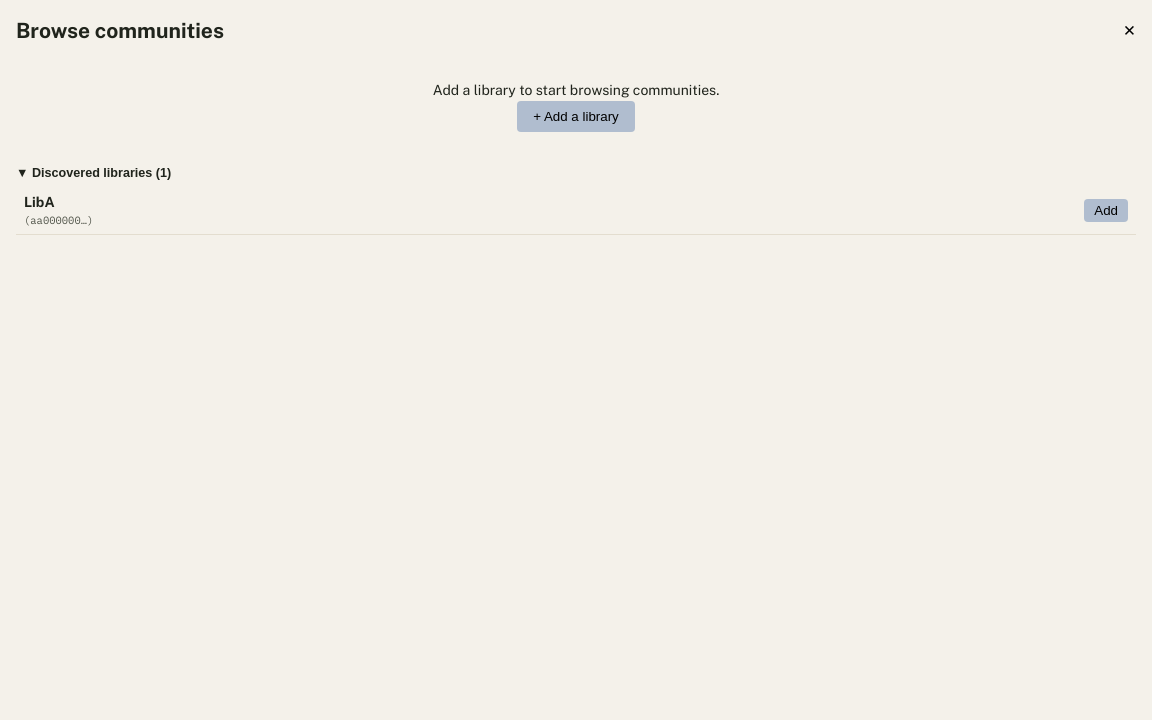
Test: LibraryDirectoryBrowser › Discovered libraries panel › discovered_panel_stays_collapsed_after_user_collapses
User manually collapses the panel by clicking the toggle.
Click the button "▼ Discovered libraries (1)".
click(94, 173)  # box [16,163,1136,184]
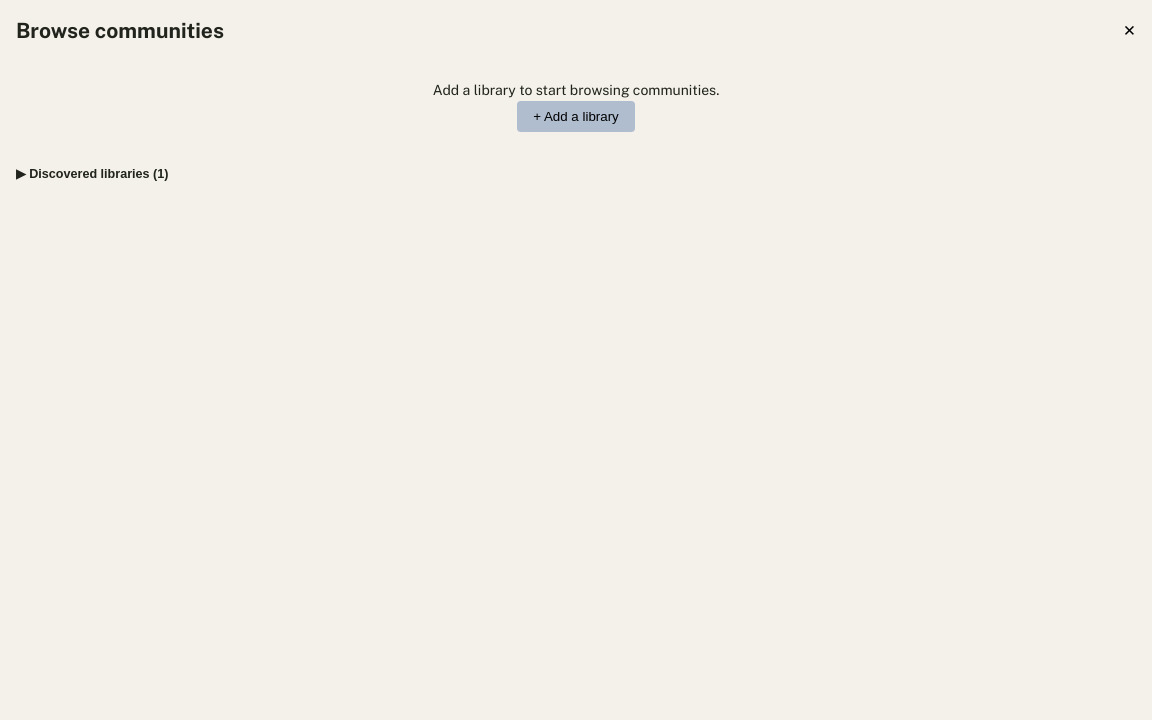
Now the button "▶ Discovered libraries (1)" is shown, box [16,163,1136,185]
Now the button "▼ Discovered libraries" is gone
